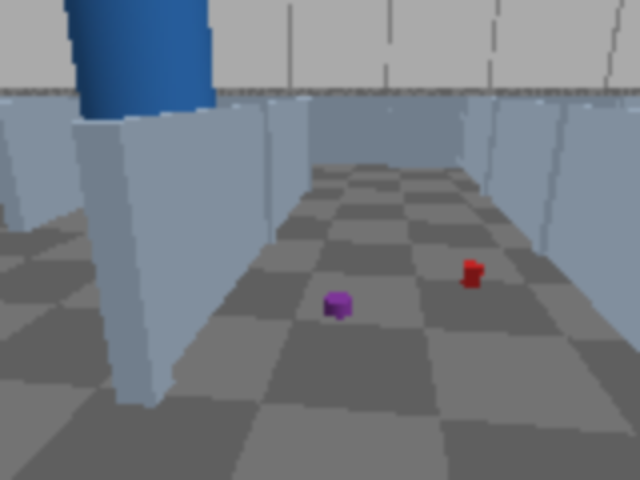puck: (461, 260, 484, 288), (328, 293, 349, 317)
